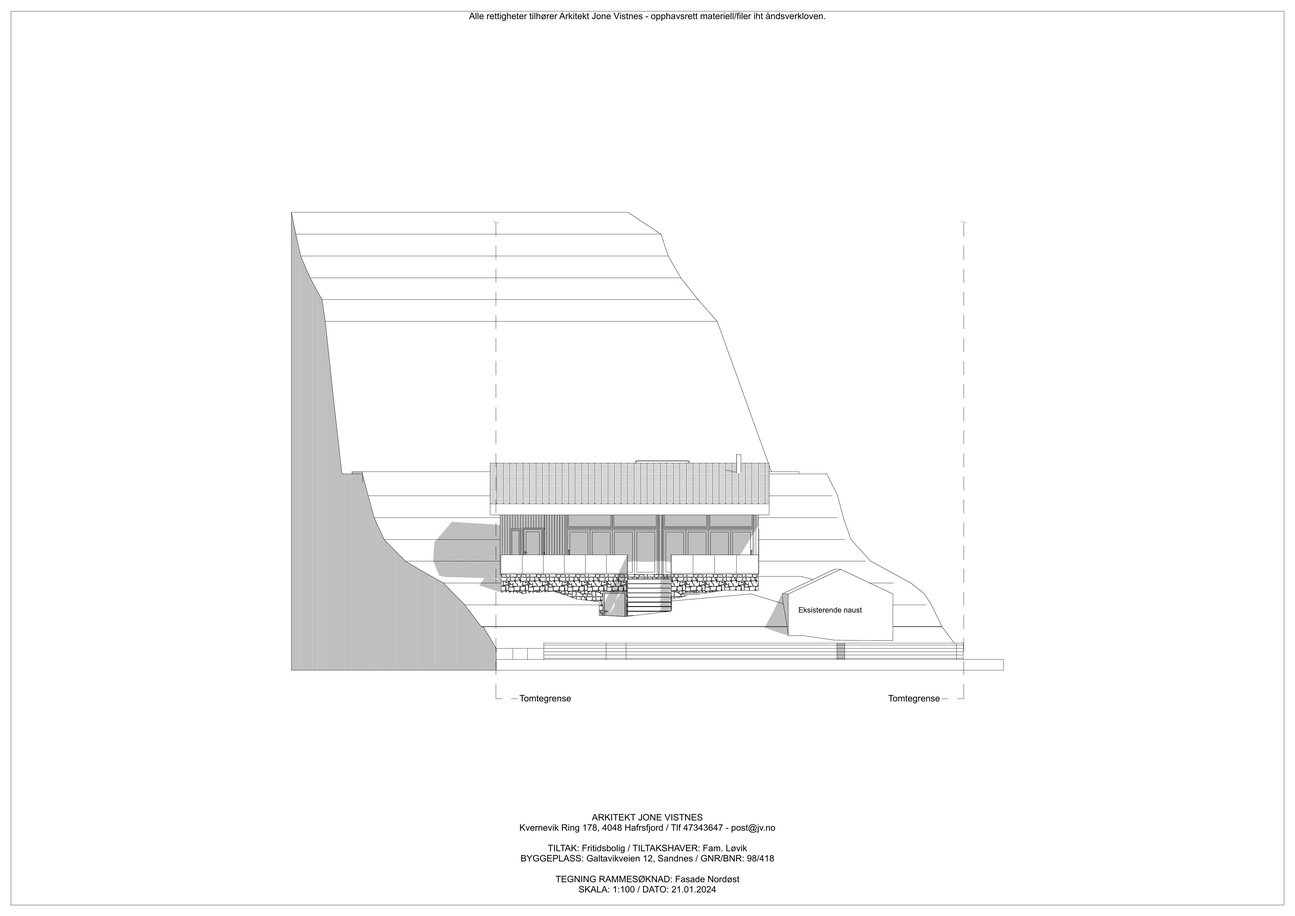fasade: (488, 453, 968, 676)
